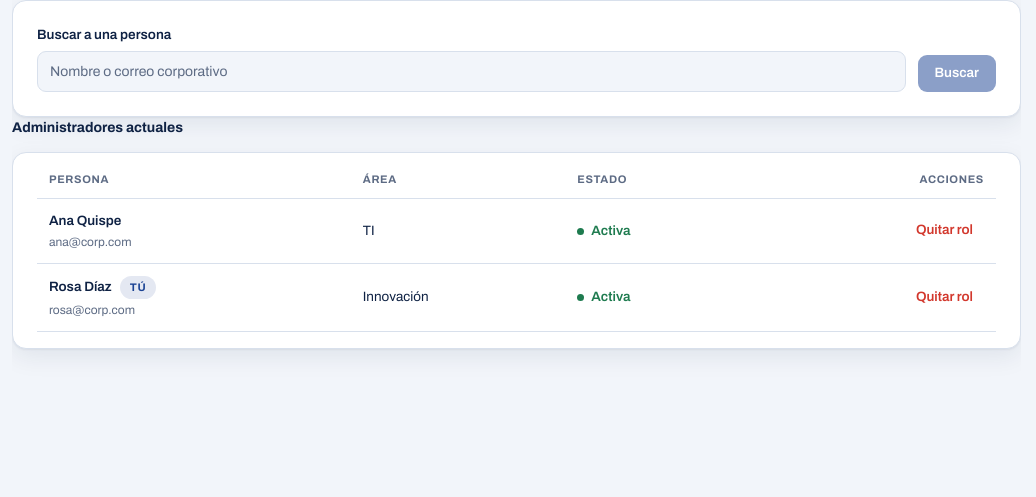
it: <AdministradoresAdmin /> — la promoción › no ofrece el rol a quien ya lo tiene
Step 1. Type "beto" into the field labelled "Buscar a una persona" → (471, 72), box [37,51,906,92]
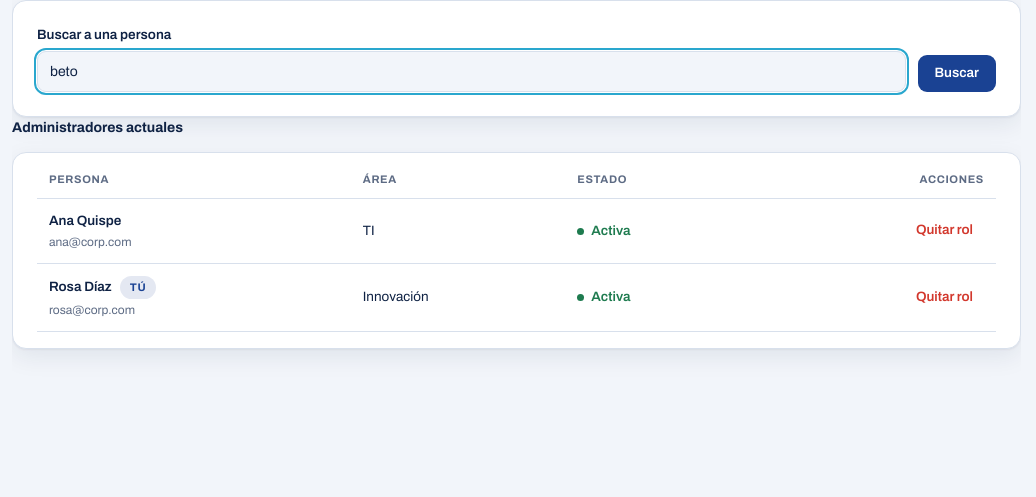
Step 2. Click the button "Buscar" → (957, 74), box [918,55,996,92]
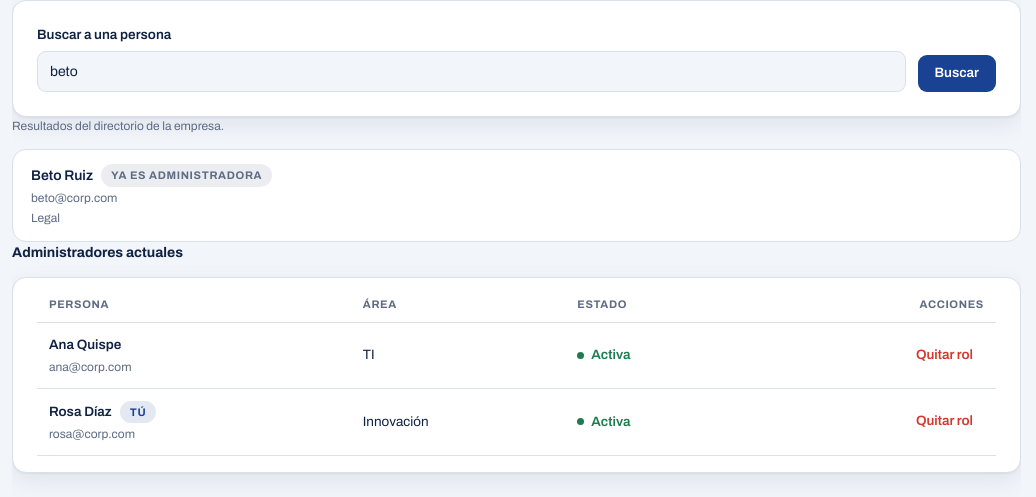
expect the text "Ya es administradora" is shown: met, box [101,164,272,187]
